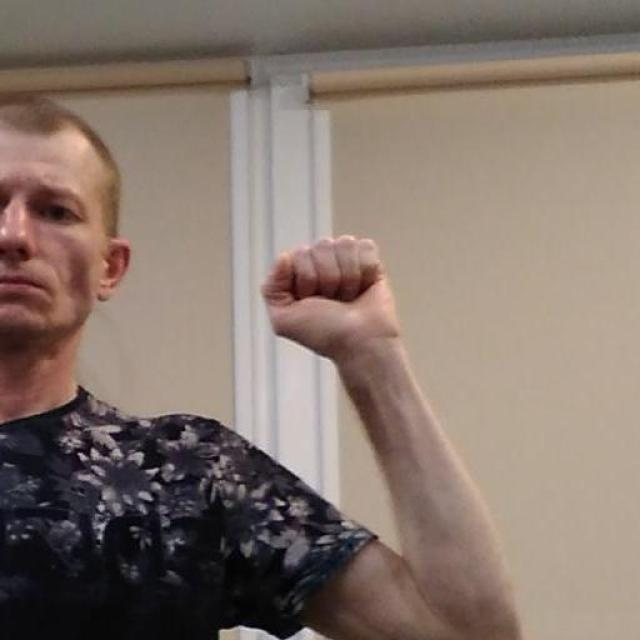hand: (260, 232, 402, 360)
